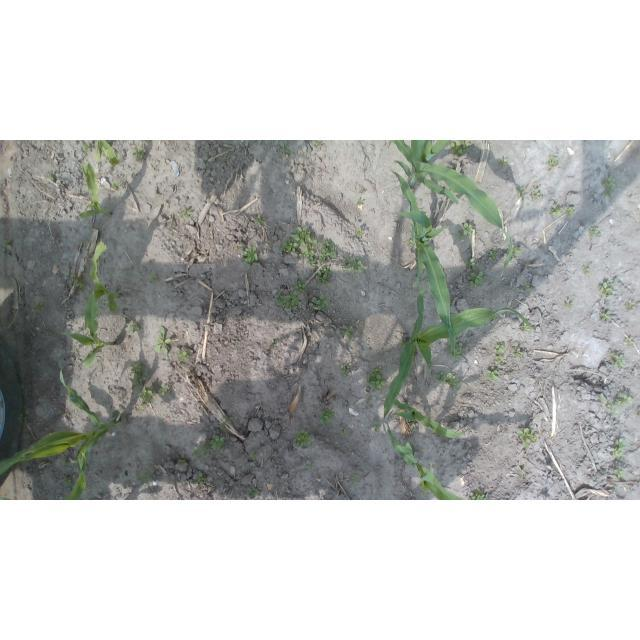Maize: (382, 283, 535, 436), (386, 141, 514, 278), (0, 370, 120, 499), (389, 167, 457, 353), (386, 421, 466, 500), (57, 290, 115, 368), (391, 396, 470, 440), (89, 240, 120, 313), (79, 162, 113, 219), (95, 140, 122, 166)
Weeds: (280, 227, 317, 268), (275, 281, 310, 311), (606, 393, 632, 418), (153, 326, 172, 356), (366, 367, 387, 392), (317, 239, 337, 264), (202, 435, 224, 457), (340, 255, 364, 275), (130, 362, 147, 388), (449, 141, 471, 160), (437, 371, 460, 389), (517, 428, 537, 447), (293, 429, 314, 447), (608, 350, 626, 369), (317, 266, 334, 286), (445, 339, 462, 359), (597, 279, 613, 299), (612, 437, 626, 459), (603, 175, 617, 197), (320, 409, 337, 426), (242, 246, 258, 264), (312, 294, 328, 311), (468, 488, 488, 500), (70, 274, 86, 289), (468, 272, 484, 287), (139, 386, 153, 403), (158, 383, 172, 398), (175, 349, 191, 362), (546, 155, 558, 172), (219, 418, 233, 432), (341, 326, 356, 339), (133, 146, 145, 161), (127, 322, 142, 334), (461, 223, 474, 236), (551, 204, 564, 217), (589, 227, 602, 240), (613, 469, 628, 480), (31, 302, 46, 313), (495, 338, 505, 354), (254, 214, 267, 226), (138, 473, 151, 485), (340, 364, 352, 377), (581, 262, 592, 276), (280, 141, 291, 155), (179, 207, 191, 219), (565, 206, 576, 219), (531, 188, 541, 202), (149, 271, 160, 283), (248, 487, 260, 498), (371, 420, 382, 432), (511, 347, 523, 358), (487, 370, 499, 381), (464, 258, 476, 269), (197, 473, 207, 486), (191, 447, 201, 460), (456, 231, 467, 242), (515, 188, 526, 199), (624, 300, 636, 310), (488, 251, 500, 261), (63, 475, 72, 488), (355, 227, 366, 237), (81, 142, 91, 153), (521, 322, 531, 333), (601, 311, 611, 322), (511, 245, 521, 256), (352, 474, 361, 484), (495, 354, 504, 364), (497, 158, 507, 167), (340, 428, 349, 437), (111, 182, 121, 190), (47, 171, 55, 181), (489, 313, 499, 321), (408, 423, 415, 434), (305, 463, 313, 472), (523, 282, 531, 291), (625, 337, 634, 345), (250, 451, 257, 461), (600, 393, 606, 404), (62, 460, 70, 468), (565, 300, 573, 308), (179, 459, 188, 466), (399, 339, 406, 348), (355, 199, 365, 205), (234, 243, 243, 249), (71, 347, 80, 353), (4, 239, 11, 246), (270, 339, 276, 347), (614, 278, 619, 287), (137, 405, 143, 411), (406, 239, 412, 245), (519, 471, 525, 477), (164, 457, 171, 462), (313, 142, 320, 147), (359, 189, 365, 193), (480, 374, 484, 379), (144, 141, 149, 144), (508, 372, 512, 375)
